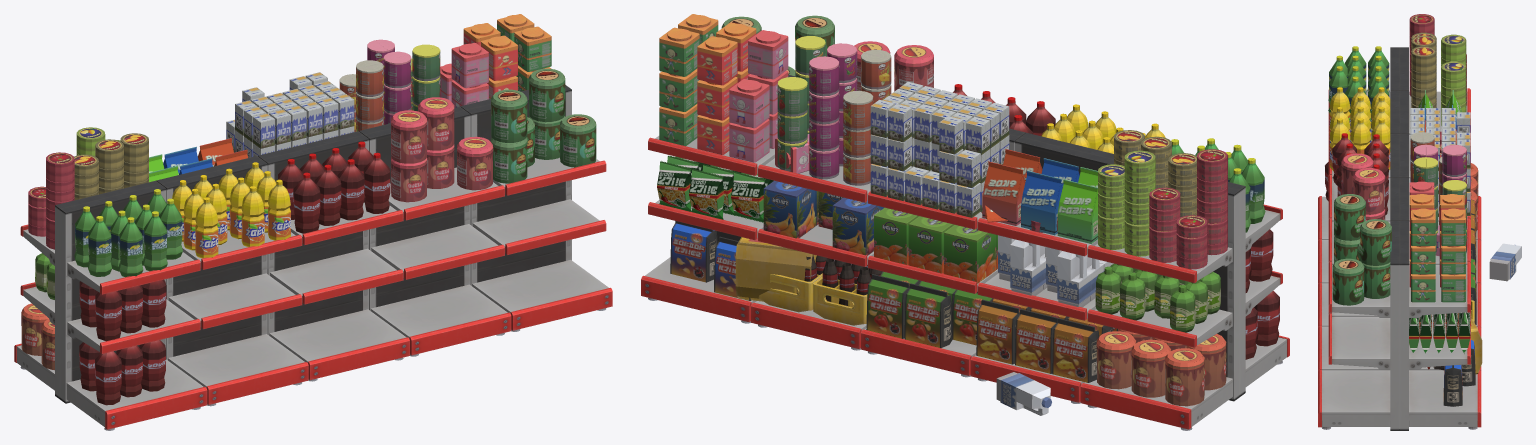
File: Market_01.obj
The picture shows the model from 3 angles, left to right: view 1: azimuth 30°, elevation 25°; view 2: azimuth 150°, elevation 25°; view 3: azimuth 270°, elevation 25°; orthographic projection. The views are drawn at different scales.
Size of the model in its own units: 5 by 2.31 by 1.99.
311 materials, 311 textured.
